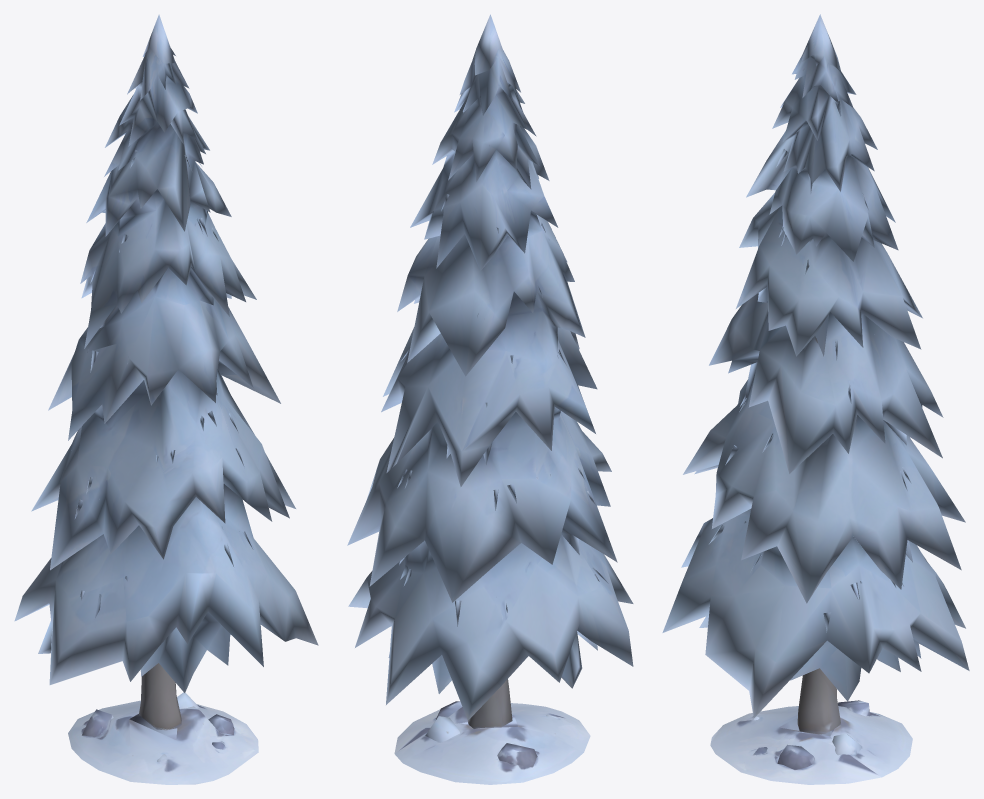
File: pine.glb
The picture shows the model from 3 angles, left to right: view 1: azimuth 30°, elevation 25°; view 2: azimuth 150°, elevation 25°; view 3: azimuth 270°, elevation 25°; orthographic projection.
Parts seen in each view (by area): view 1: Pine; view 2: Pine; view 3: Pine.
Part boxes in pixels (box(x1,y1,x2,y2)): Pine: box(14, 14, 318, 784); Pine: box(347, 14, 633, 784); Pine: box(662, 14, 969, 784).
Bounding box in the file's own units: 0.3689 × 0.9998 × 0.3805.
1 material, 1 textured.
